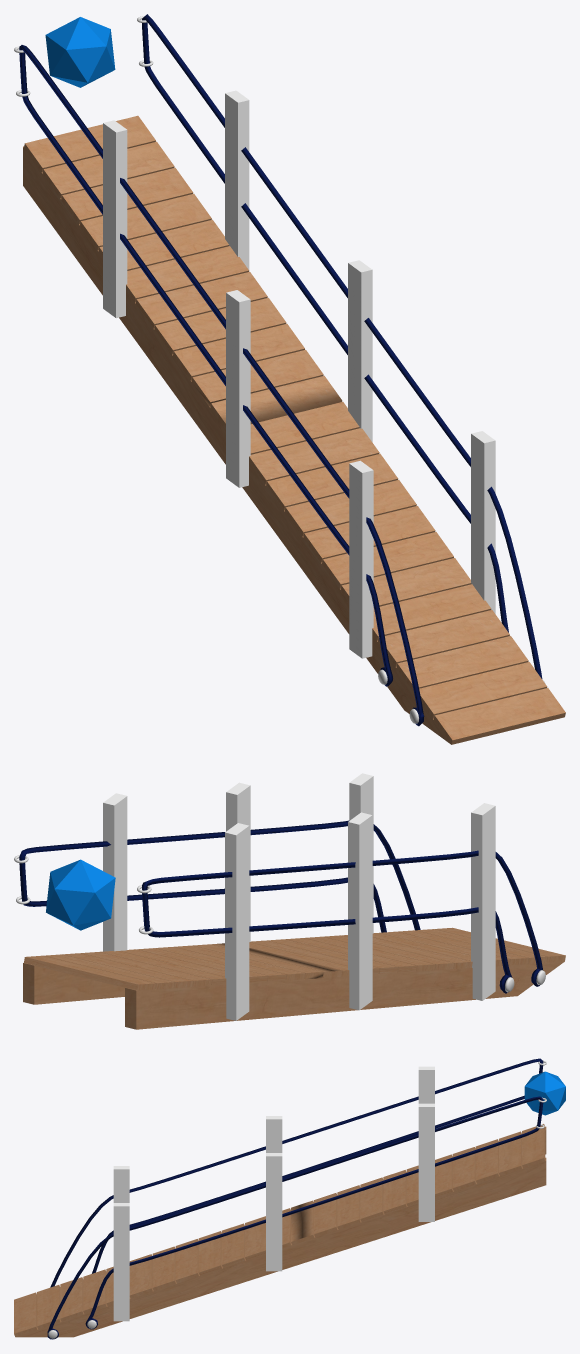
File: Gangplank 4'.glb
3 views of the same model, one above another, from view 1: azimuth 30°, elevation 25°; view 2: azimuth 150°, elevation 25°; view 3: azimuth 270°, elevation 25° (orthographic). The views are drawn at different scales.
Visible parts, largest first — view 1: Plane.039, Plane.001, Joint.045; view 2: Plane.039, Plane.001, Joint.045; view 3: Plane.039, Plane.001, Joint.045.
Boxes of the visible parts, x1,y1,x2,y2 form: Plane.039: [14, 14, 565, 744]; Plane.001: [103, 90, 495, 658]; Joint.045: [45, 17, 115, 87]; Plane.039: [14, 820, 565, 1029]; Plane.001: [103, 773, 495, 1020]; Joint.045: [46, 859, 115, 930]; Plane.039: [14, 1058, 546, 1339]; Plane.001: [113, 1066, 434, 1321]; Joint.045: [524, 1071, 565, 1115].
Size of the model in its own units: 0.6083 by 1.72 by 3.46.
5 materials, 2 textured.
